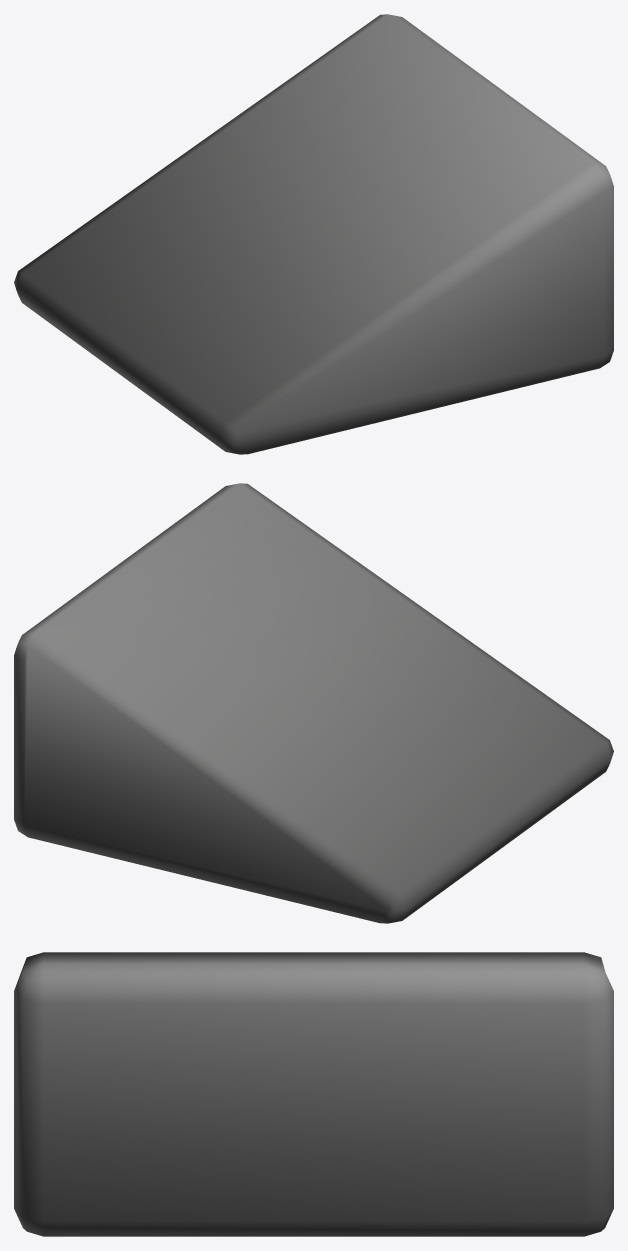
File: 3D_Tile_Dungeon_Slope_01B.glb
The picture shows the model from 3 angles, top to bottom: view 1: azimuth 30°, elevation 25°; view 2: azimuth 150°, elevation 25°; view 3: azimuth 270°, elevation 25°; orthographic projection. The views are drawn at different scales.
Parts seen in each view (by area): view 1: 3D_Tile_Dungeon_Slope_01B; view 2: 3D_Tile_Dungeon_Slope_01B; view 3: 3D_Tile_Dungeon_Slope_01B.
Part boxes in pixels (<box>): 3D_Tile_Dungeon_Slope_01B: <box>14,14,613,454</box>; 3D_Tile_Dungeon_Slope_01B: <box>14,483,613,923</box>; 3D_Tile_Dungeon_Slope_01B: <box>14,952,613,1236</box>.
Size of the model in its own units: 2 by 1 by 2.
1 material, 1 textured.
